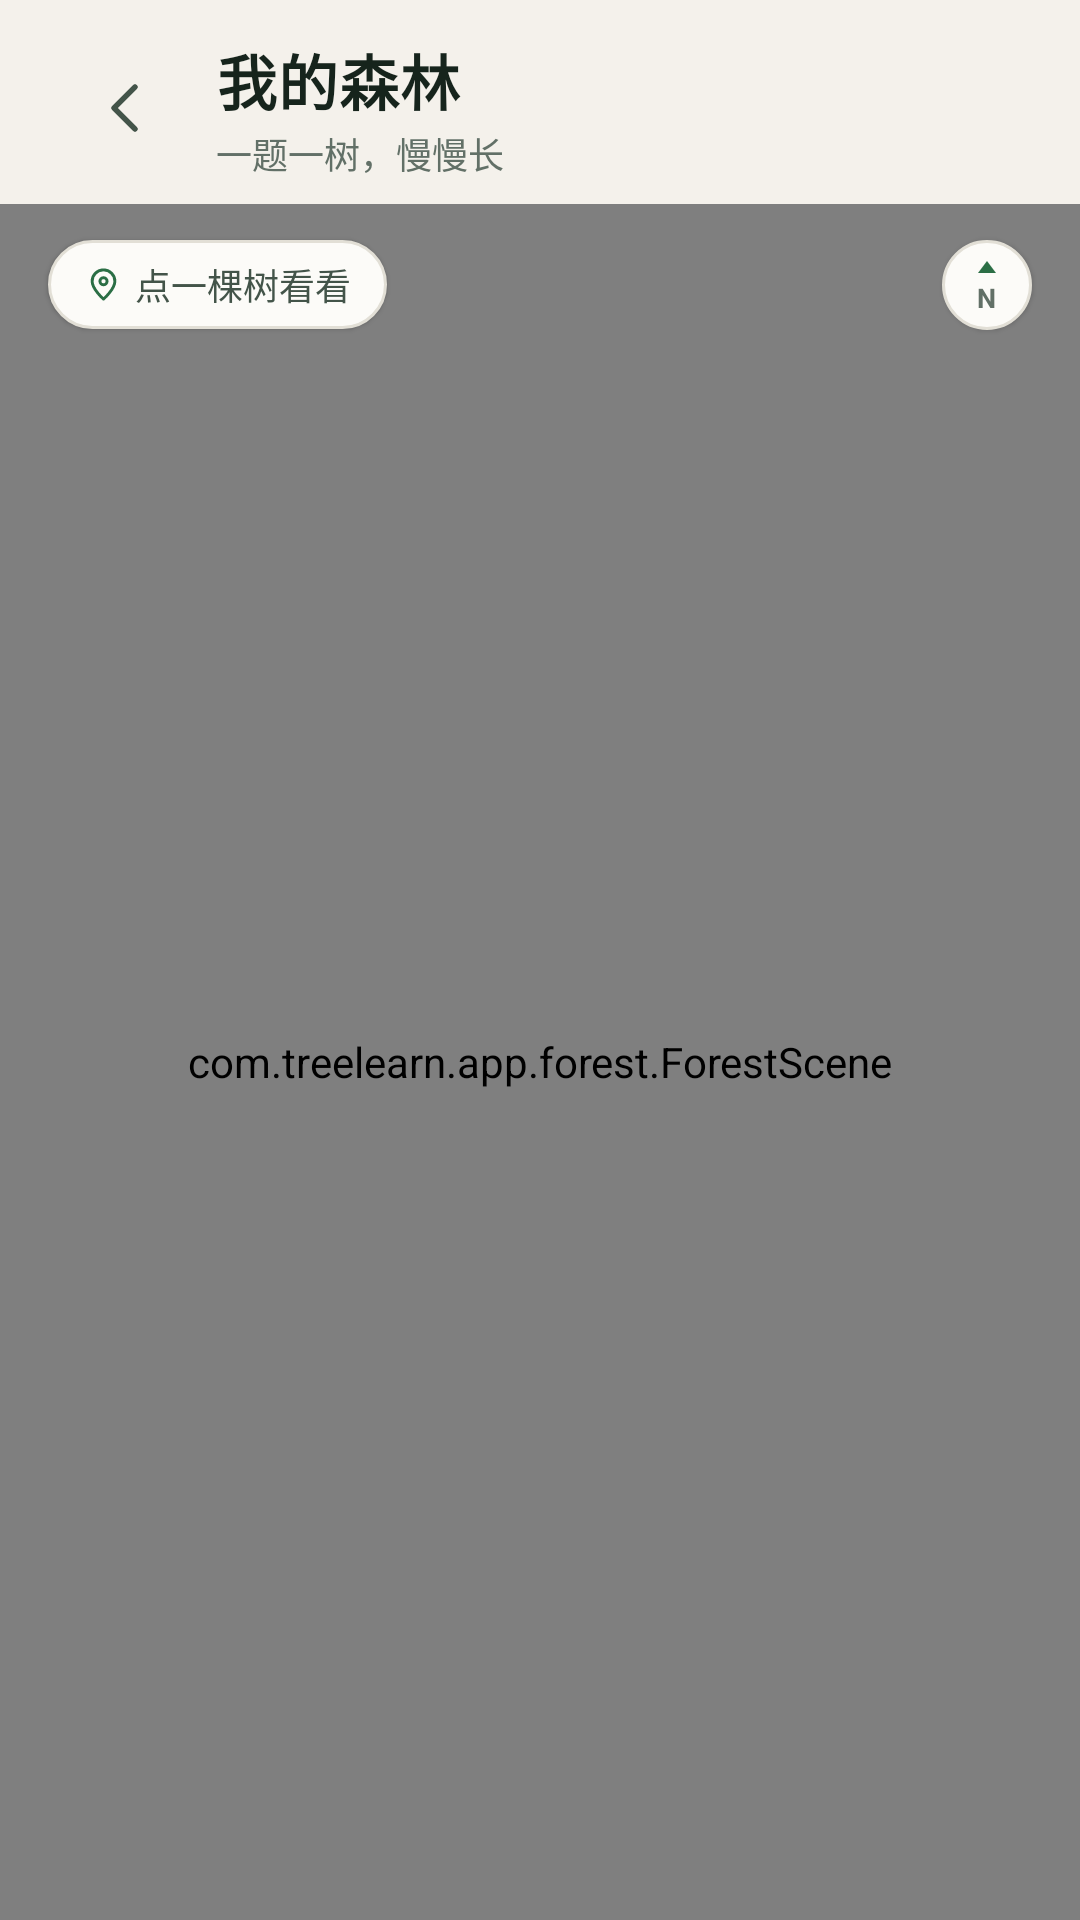

Icons on this 1080w x 1920h Android screen, each with its box as (x1, y1, x2, y2):
返回: (111, 84, 138, 132)
